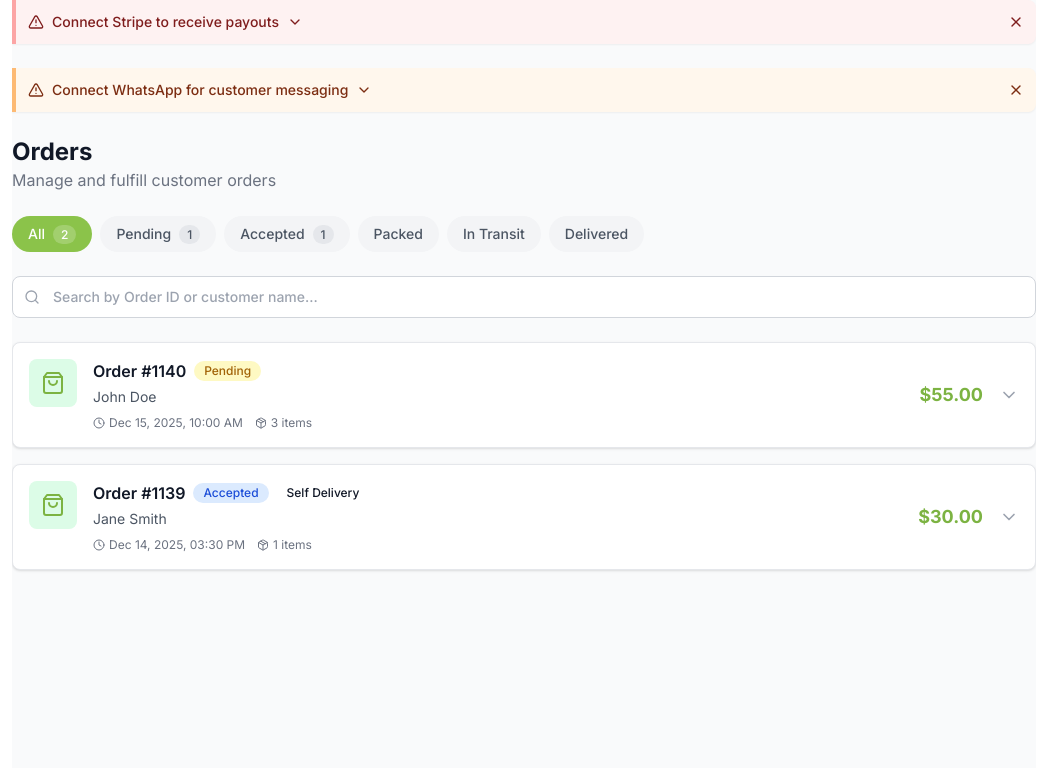
Test: OrdersPage › expands order on click
expect the heading "Order #1140" is shown: met, box [93, 359, 186, 383]
// Click on the first order to expand
Click the text "Order #1140" at (53, 383), box [13, 343, 1035, 447]
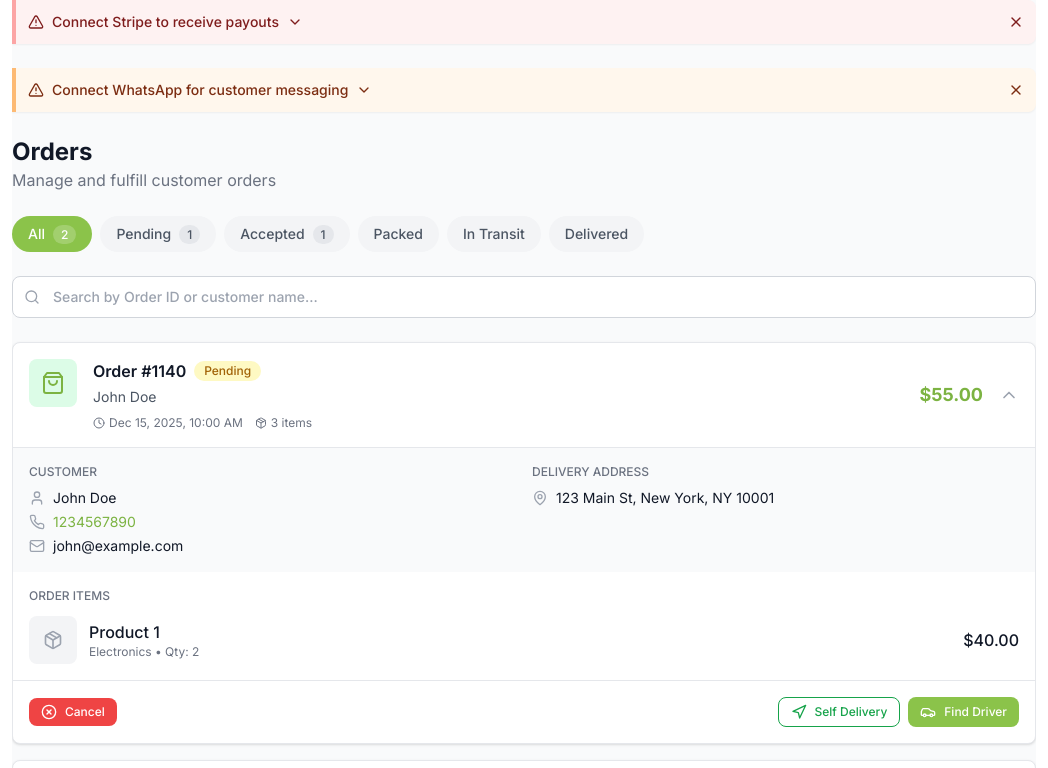
expect the heading "Customer" is shown: met, box [29, 464, 97, 479]
expect the heading "Delivery Address" is shown: met, box [532, 464, 649, 479]
expect the heading "Order Items" is shown: met, box [29, 588, 110, 603]
